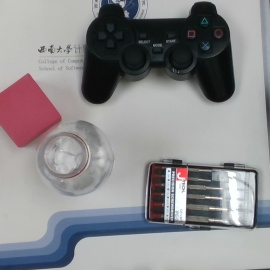bottle: (37, 120, 115, 196)
remote: (84, 4, 235, 103)
